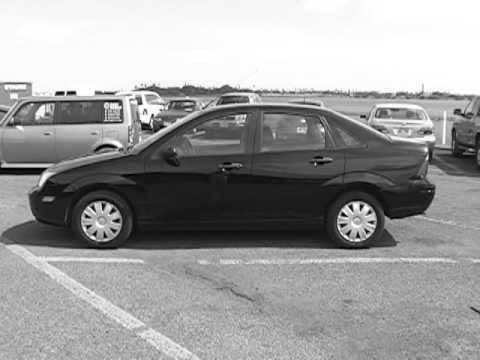car: (29, 102, 436, 251)
